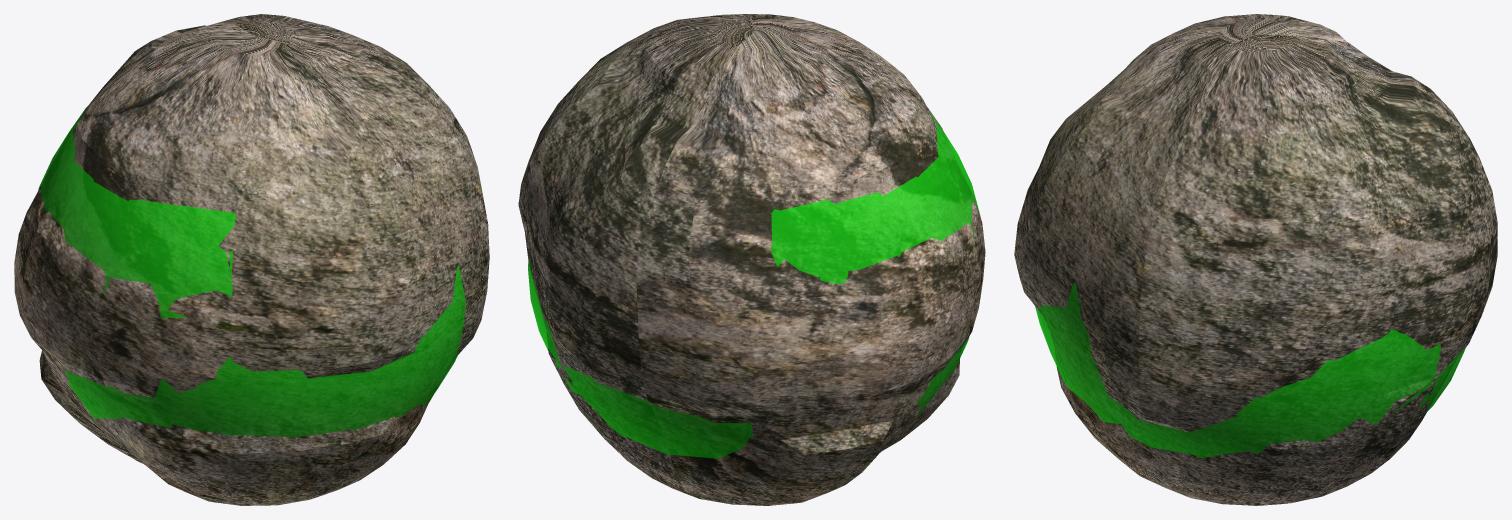
Rendered from WindRock.fbx.
3 views of the same model, side by side, from view 1: azimuth 30°, elevation 25°; view 2: azimuth 150°, elevation 25°; view 3: azimuth 270°, elevation 25° (orthographic).
Visible parts, largest first — view 1: polySurface1; view 2: polySurface1; view 3: polySurface1.
Boxes of the visible parts, x1,y1,x2,y2 form: polySurface1: (14,14,489,505); polySurface1: (518,14,985,505); polySurface1: (1014,14,1497,505).
Bounding box in the file's own units: 1.76 × 1.85 × 1.81.
Materials: 2 (1 with a texture image).
